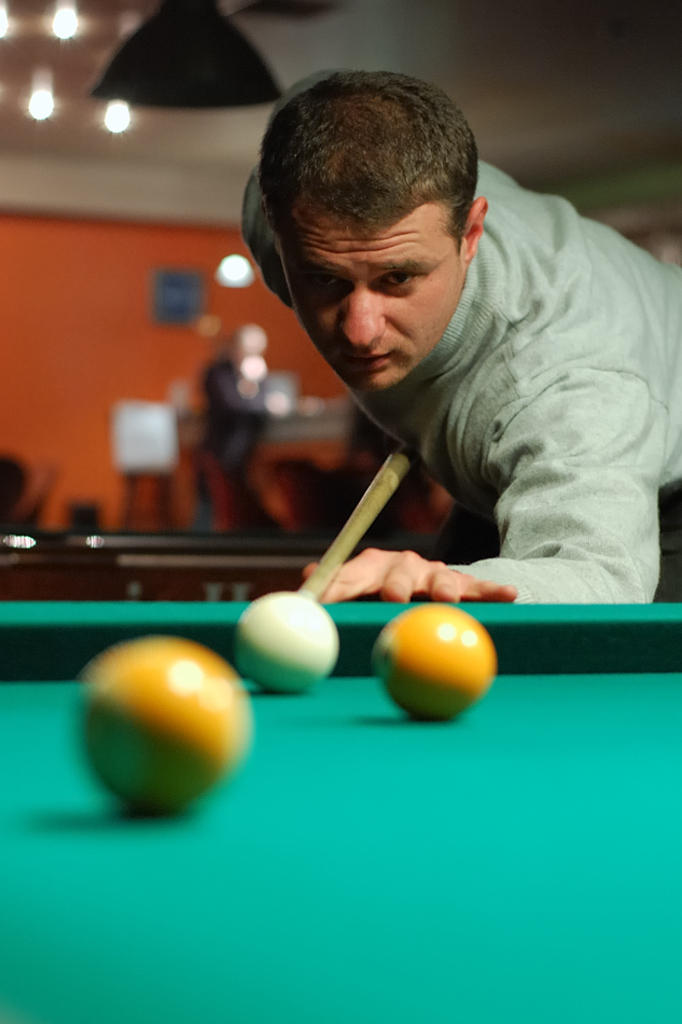Ball: (85, 635, 249, 816), (377, 603, 493, 723), (238, 594, 336, 690)
